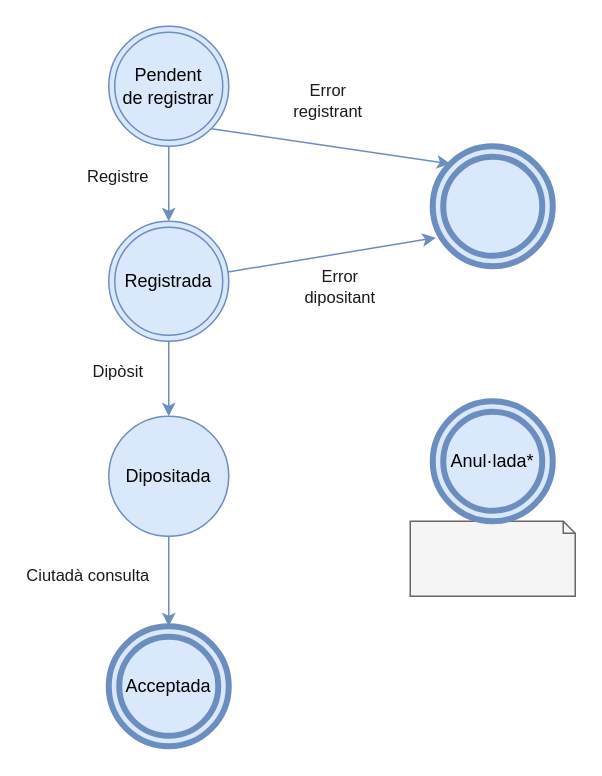
Some shapes in this 602 by 776 pixel diagram are drawn without their labels. Here are the shapes that lost their labels. From the top down, the box of each, then its label:
(429, 142, 555, 268): Error
(409, 520, 575, 596): * Es pot anul·lar una notificació des de qualsevol estat
